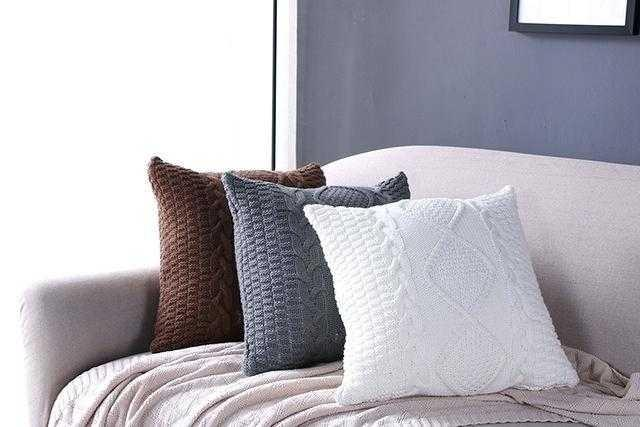pillow: (302, 182, 580, 406), (220, 167, 410, 377), (146, 155, 326, 353)
